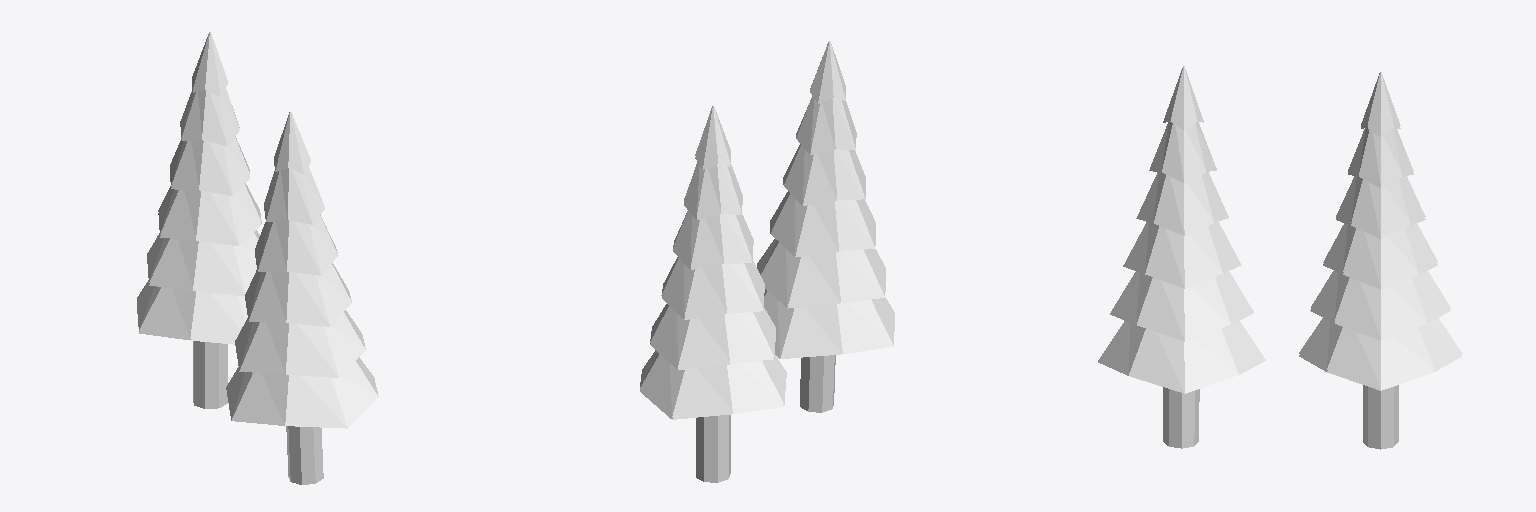
The model's file is BlenderNatureAsset.obj.
3 renders of one model, left to right at view 1: azimuth 30°, elevation 25°; view 2: azimuth 150°, elevation 25°; view 3: azimuth 270°, elevation 25°, orthographic.
Visible parts, largest first — view 1: Mesh; view 2: Mesh; view 3: Mesh.
Boxes of the visible parts, x1,y1,x2,y2 form: Mesh: [137, 32, 378, 484]; Mesh: [640, 41, 894, 482]; Mesh: [1098, 66, 1462, 449].
Size of the model in its own units: 1.33 by 3.12 by 2.78.